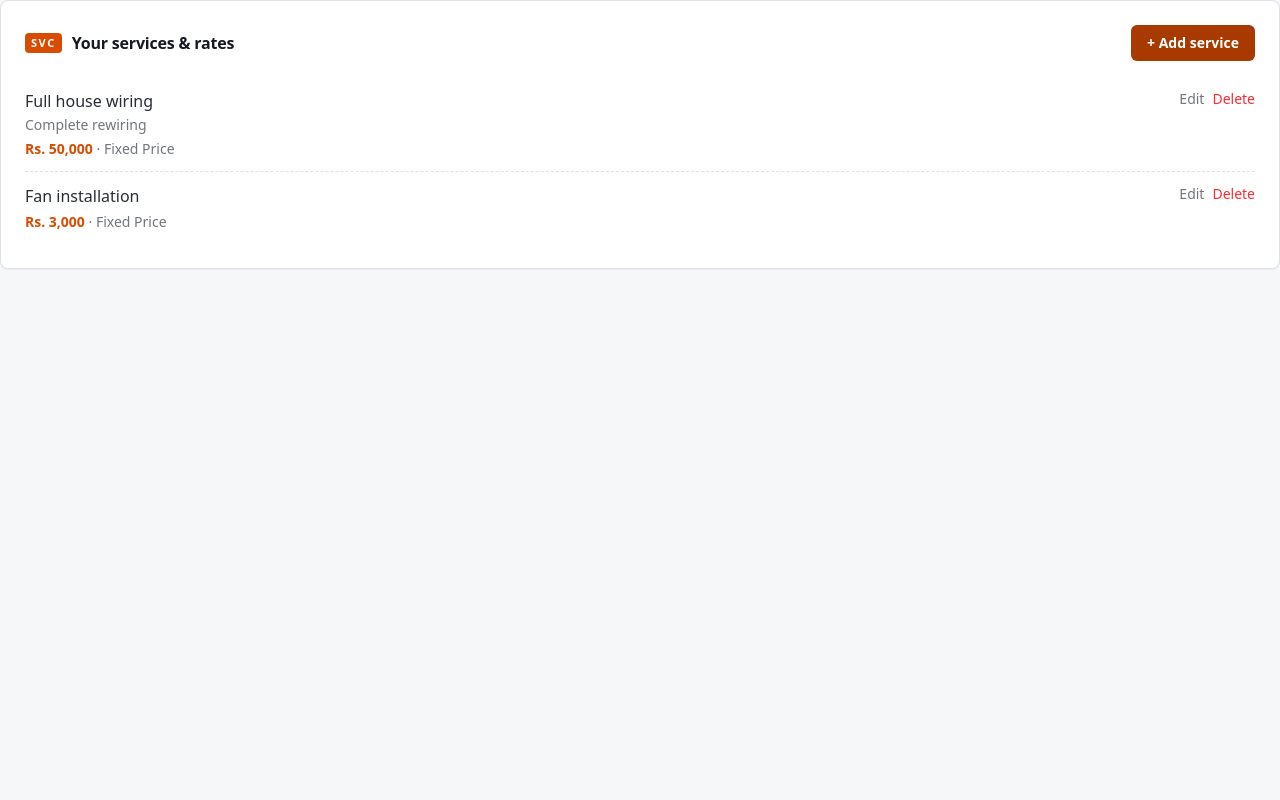
Test: ServicesManager › validates title and price locally before any request
The width and height of the screenshot is (1280, 800).
Click the button "+ Add service".
click(1193, 43)  # box [1131,25,1255,61]
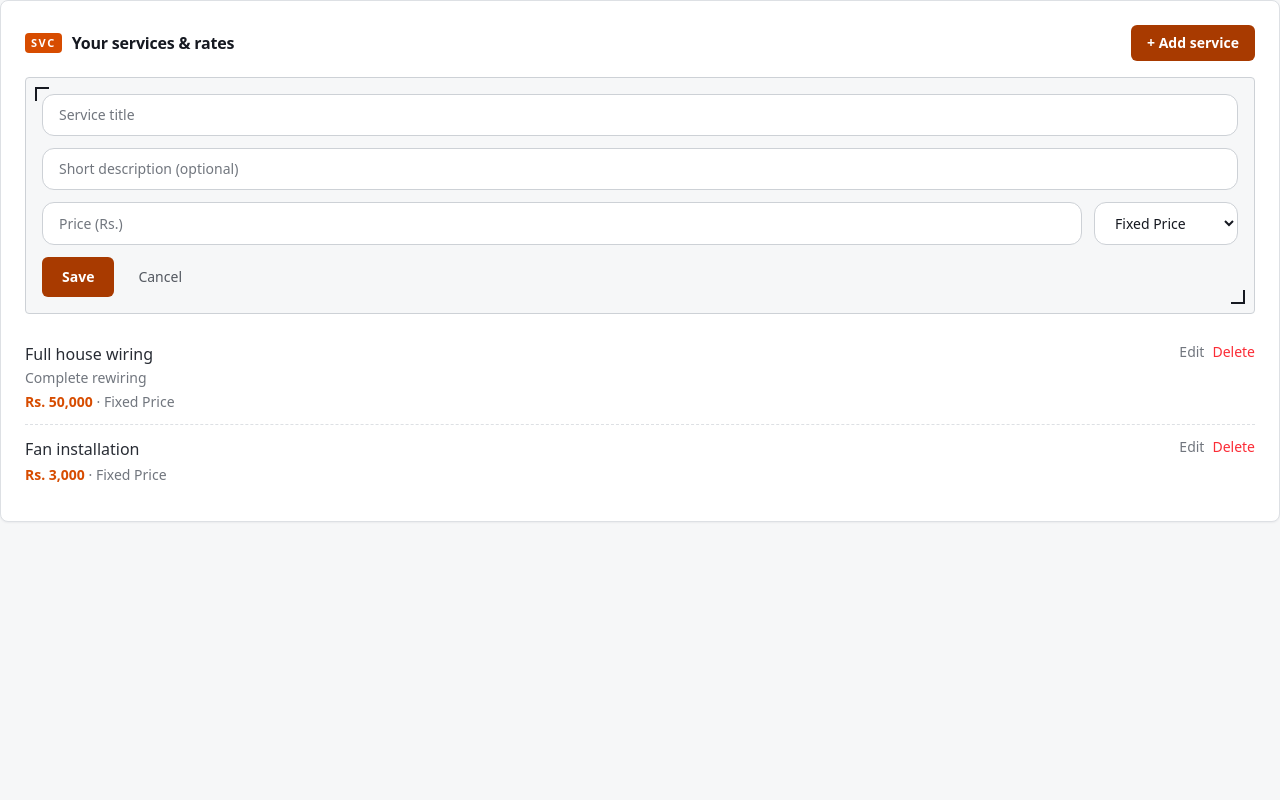
Note: Leave the title blank / price empty, then save.
Click the button "Save".
click(78, 277)  # box [42,257,114,297]
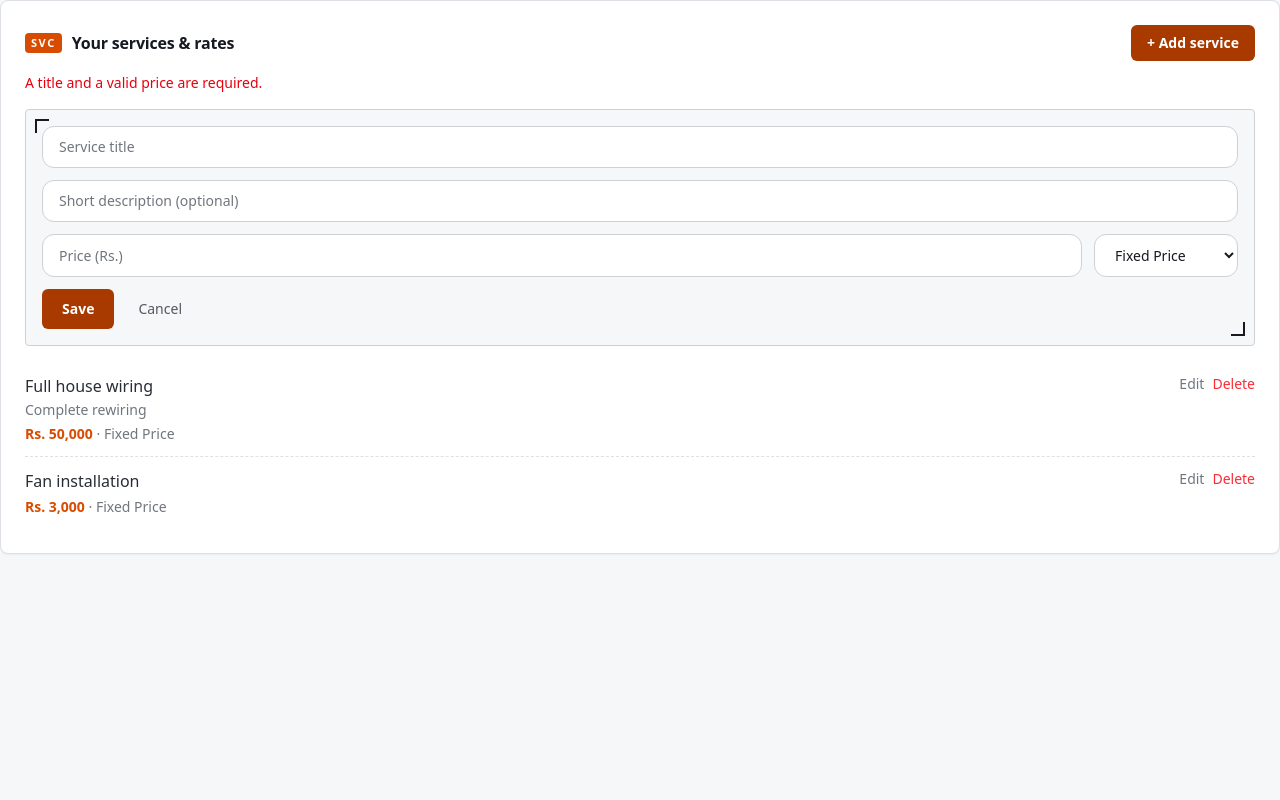
Expected: the message reads "A title and a valid price are required.", [25,73,262,92]
